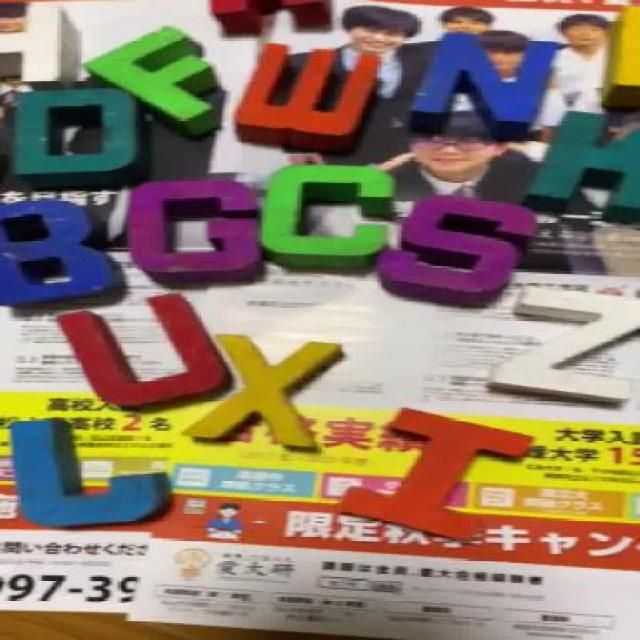B: (0, 199, 109, 316)
C: (272, 169, 398, 269)
D: (11, 89, 140, 189)
F: (92, 29, 235, 132)
G: (121, 182, 264, 282)
I: (335, 407, 542, 538)
N: (399, 34, 566, 141)
S: (387, 192, 542, 298)
U: (58, 295, 237, 403)
W: (232, 42, 382, 144)
X: (195, 334, 342, 449)
Z: (498, 286, 638, 406)
